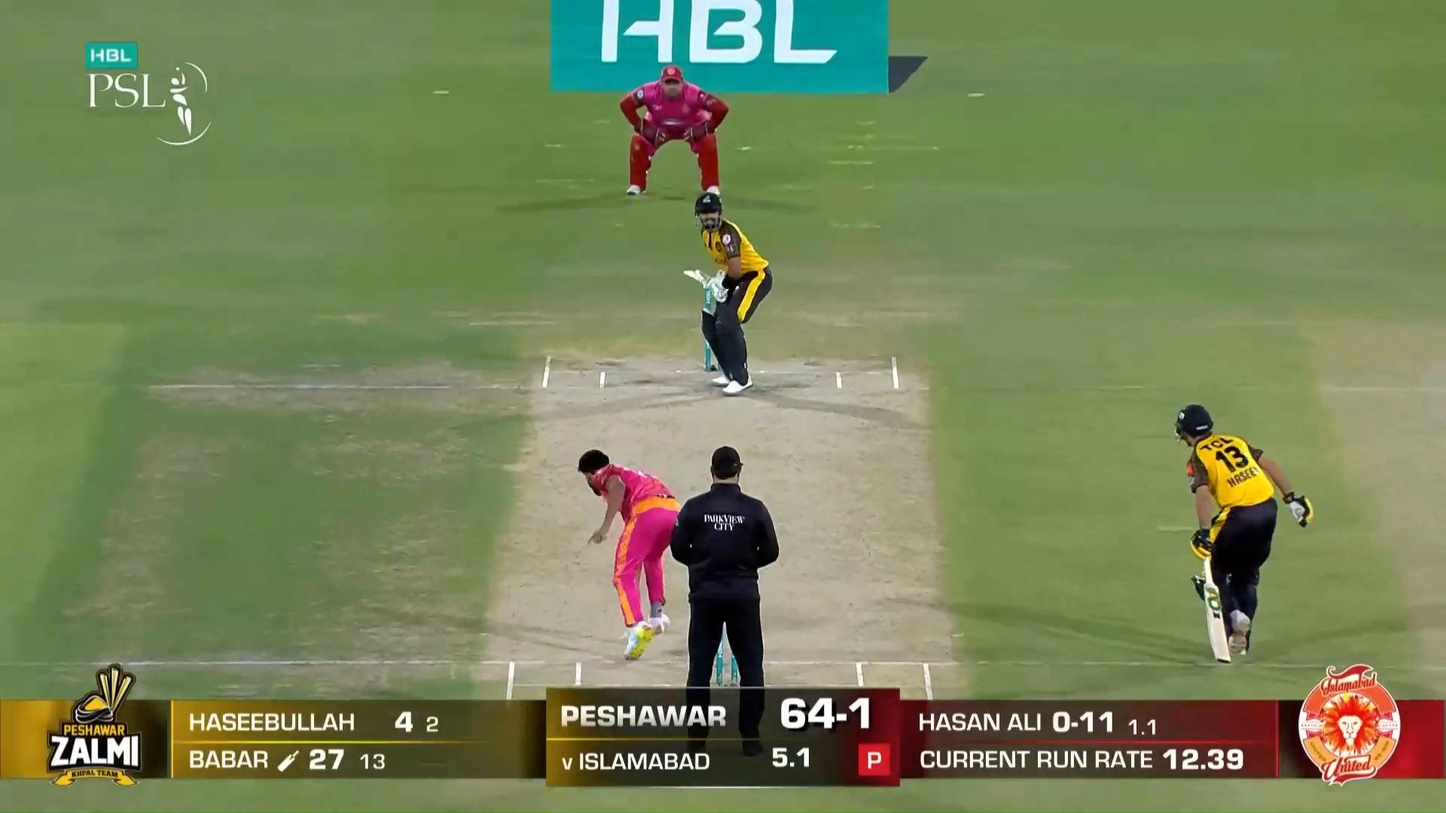batsman: (683, 192, 772, 396)
